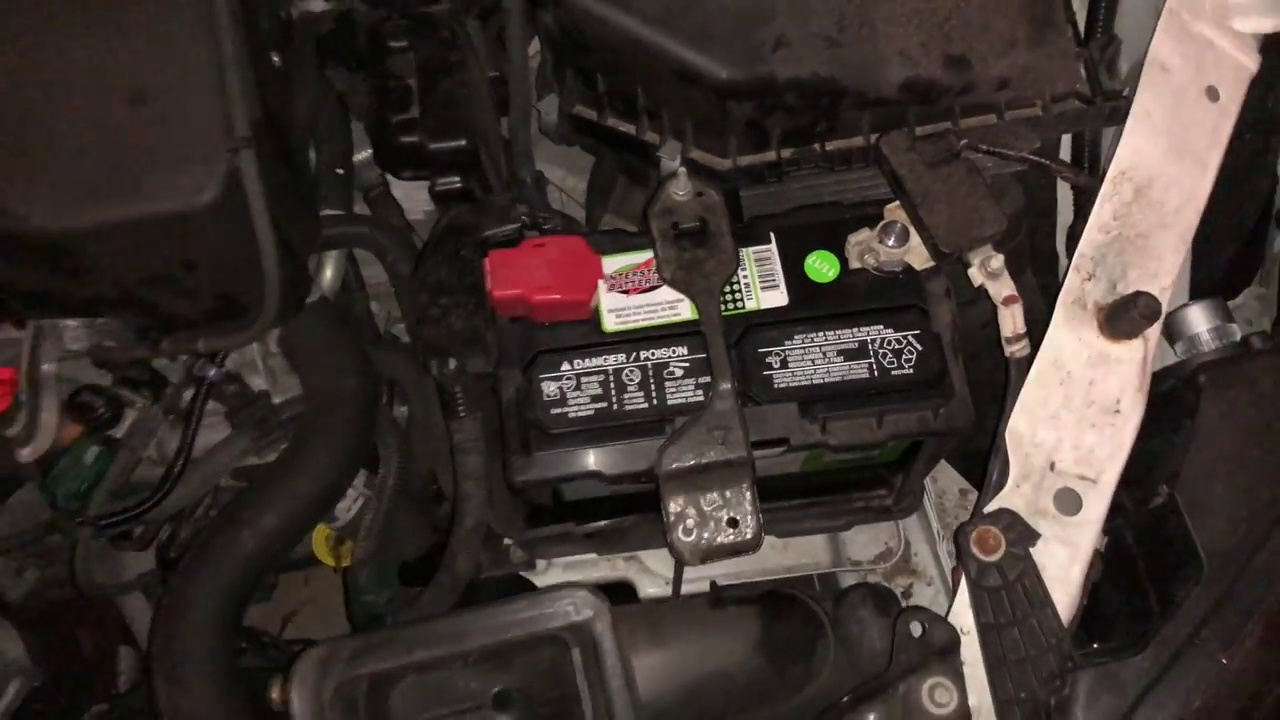battery: (480, 205, 957, 457)
neg_connected: (817, 199, 938, 287)
pos_connected: (463, 229, 613, 321)
